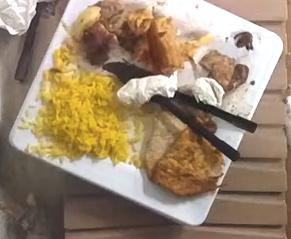pizza_crust: (147, 17, 186, 73)
potato: (69, 5, 114, 65)
rice: (29, 44, 126, 161)
unknown: (142, 111, 223, 195)
